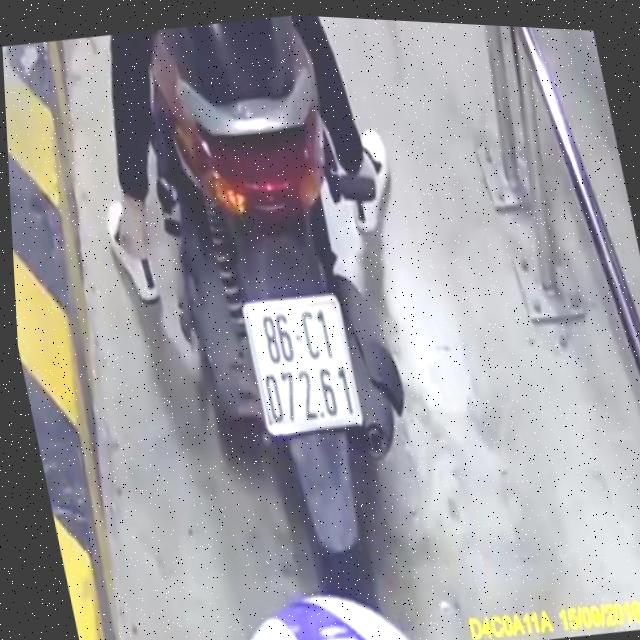motorcycle: (116, 6, 464, 627)
plate: (229, 279, 377, 450)
